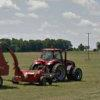Tractor: (12, 35, 92, 86)
